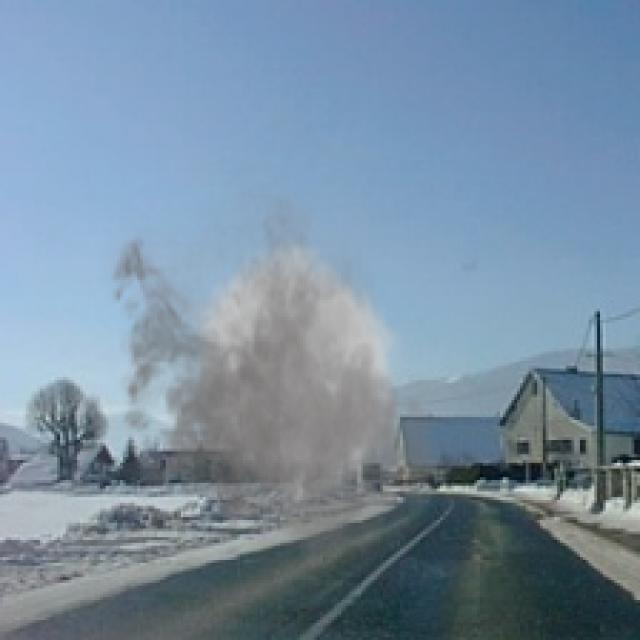Smoke: (100, 168, 452, 583)
